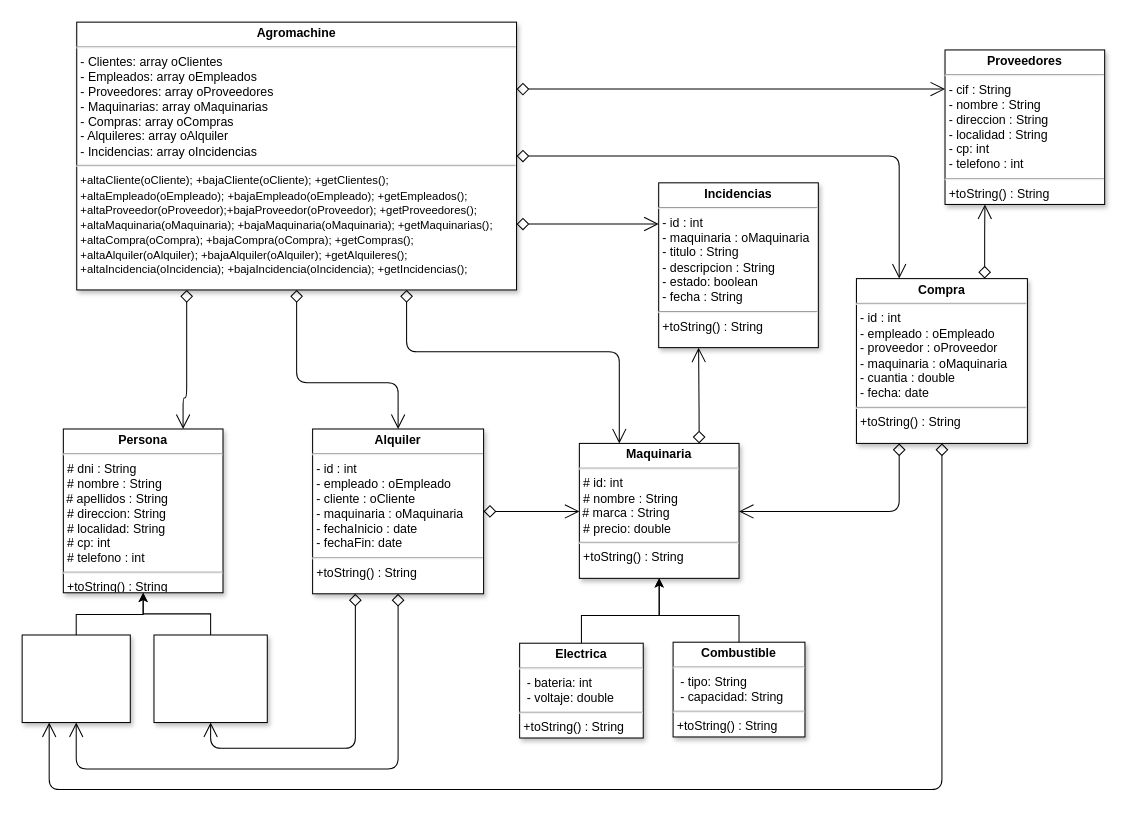
The diagram is 1129 pixels wide and 822 high, and some of its shapes have lost their labels. Each missing label, with the centre of its shape:
Cliente +toString() : String: [211,680]
Empleado - rol: String +toString() : String: [76,680]
